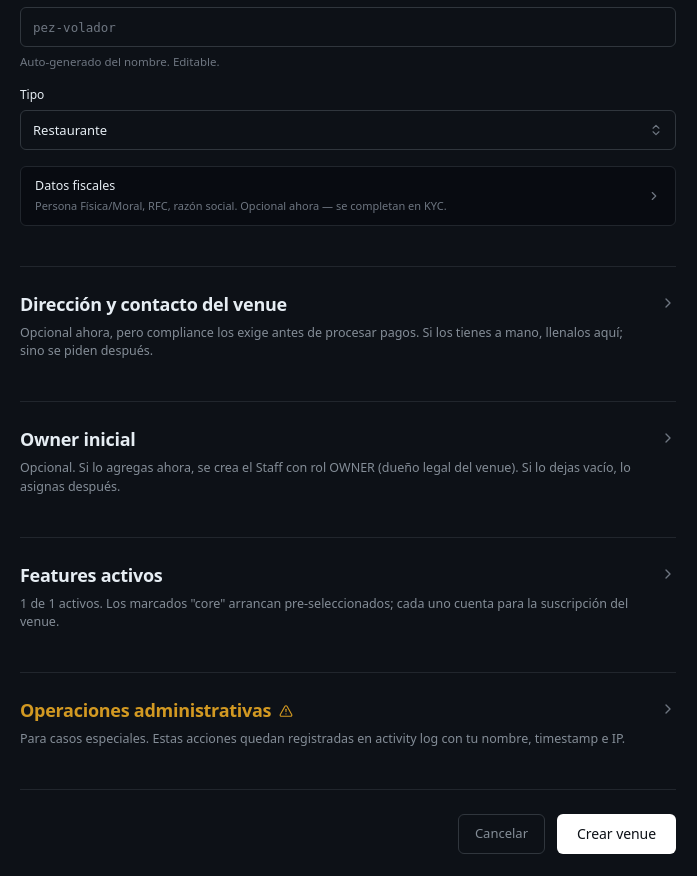
NewVenuePage › al expandir "Operaciones administrativas" se muestra el checkbox de pre-aprobar KYC
(page scrolled)
Click the button "Operaciones administrativas".
click(146, 710)  # box [20,697,676,749]
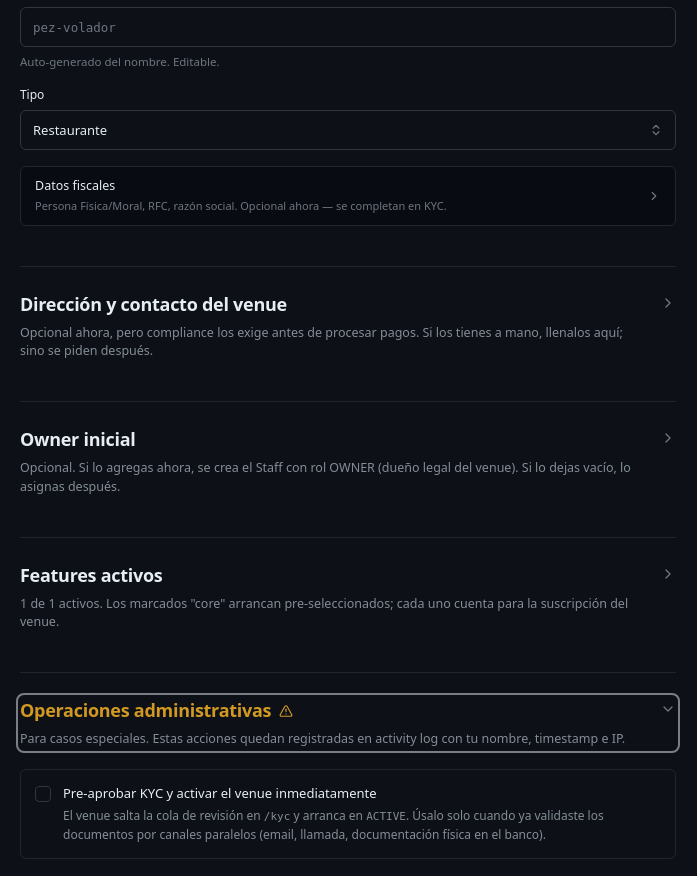
Expected: the checkbox with id "approve-kyc" is shown, [35,786,51,802]
